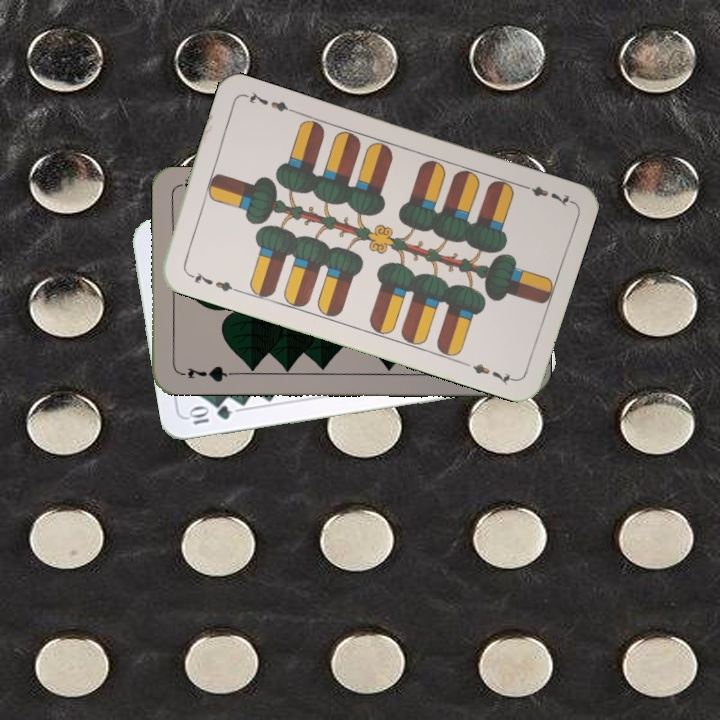E7: (516, 180, 574, 210), (183, 268, 240, 295)
G10: (185, 401, 234, 427)
G7: (175, 362, 234, 385)
